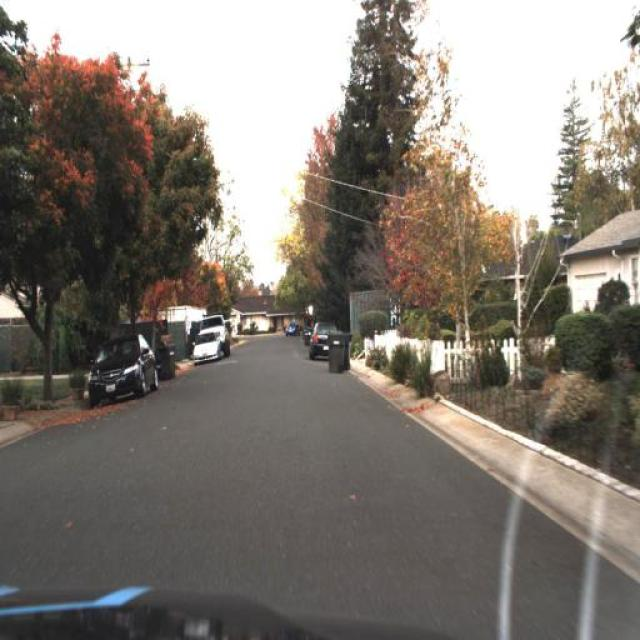car: (78, 323, 161, 418), (83, 331, 162, 407), (304, 316, 344, 359), (188, 328, 221, 372), (200, 311, 226, 339), (286, 322, 300, 336)
